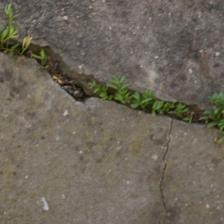Crack: (77, 39, 142, 145), (164, 0, 224, 78)
